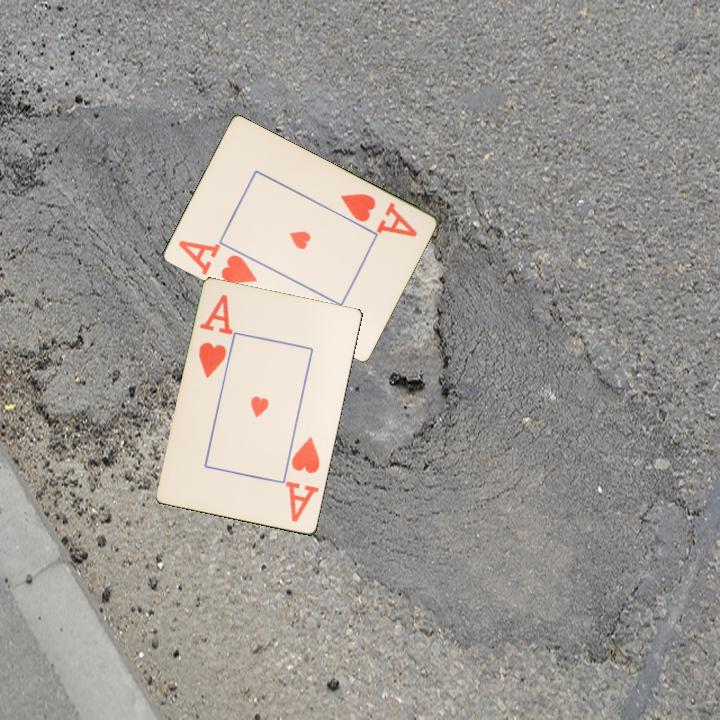Ah: (174, 237, 260, 287), (336, 190, 420, 240), (283, 433, 323, 526), (195, 291, 234, 381)
